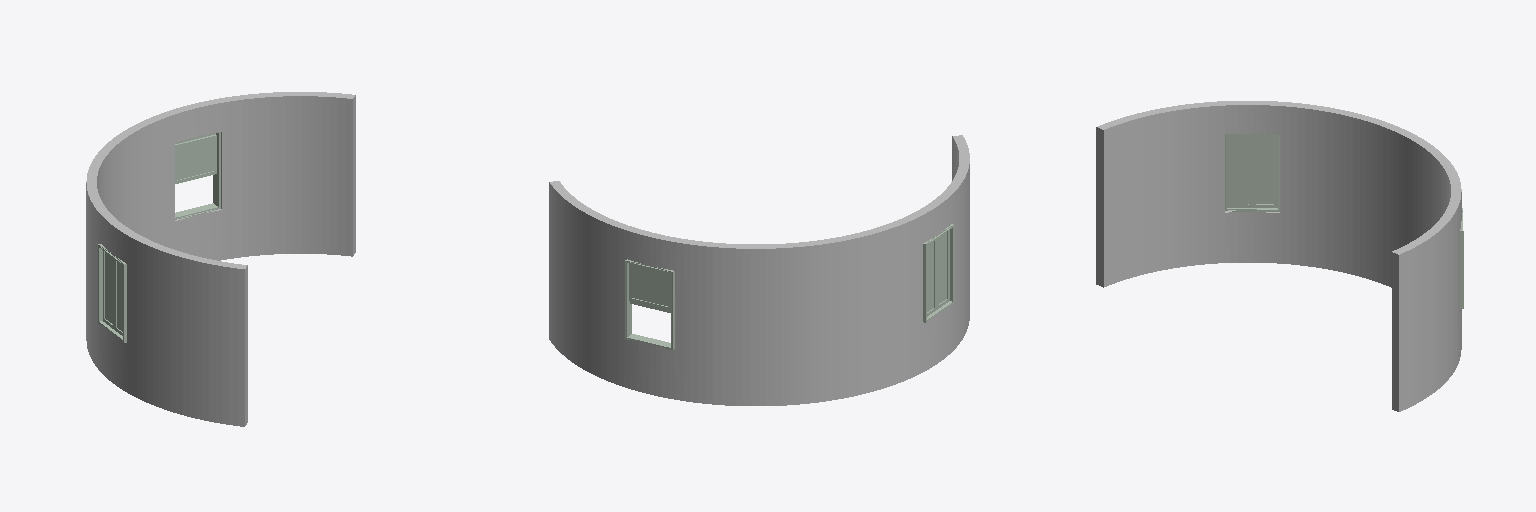
File: 06-03-01_windows_in_curved_wall_vw_obj.obj
3 renders of one model, left to right at view 1: azimuth 30°, elevation 25°; view 2: azimuth 150°, elevation 25°; view 3: azimuth 270°, elevation 25°, orthographic.
Visible parts, largest first — view 1: 3h5Wt3174HtBTl01SnVW73, 3h5Vkx174HtBTl01SnVW73, 3h5Wrj174HtBTl01SnVW73; view 2: 3h5Wt3174HtBTl01SnVW73, 3h5Vkx174HtBTl01SnVW73, 3h5Wrj174HtBTl01SnVW73; view 3: 3h5Wt3174HtBTl01SnVW73, 3h5Wrj174HtBTl01SnVW73.
Boxes of the visible parts, box(x1,y1,x2,y2) form: 3h5Wt3174HtBTl01SnVW73: box(86, 92, 355, 426); 3h5Vkx174HtBTl01SnVW73: box(175, 132, 220, 219); 3h5Wrj174HtBTl01SnVW73: box(98, 244, 126, 342); 3h5Wt3174HtBTl01SnVW73: box(549, 135, 969, 405); 3h5Vkx174HtBTl01SnVW73: box(625, 259, 674, 349); 3h5Wrj174HtBTl01SnVW73: box(923, 224, 954, 322); 3h5Wt3174HtBTl01SnVW73: box(1096, 101, 1461, 411); 3h5Wrj174HtBTl01SnVW73: box(1225, 134, 1279, 211).
Size of the model in its own units: 5.28 by 2.5 by 5.28.